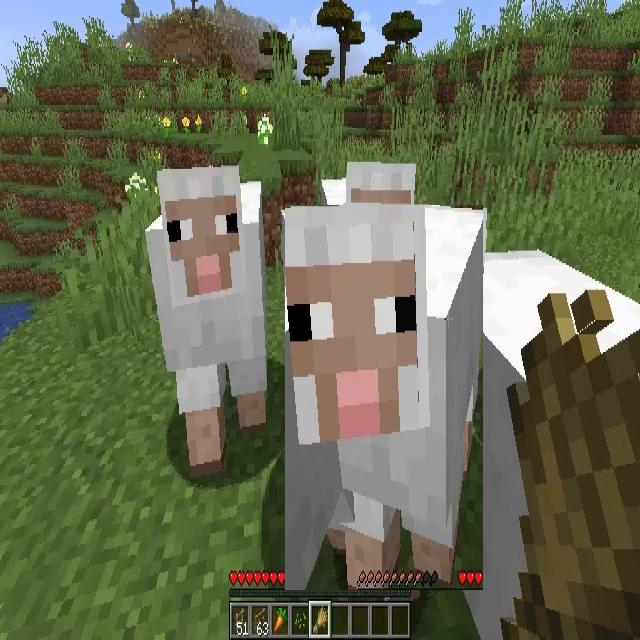flower: (257, 116, 273, 144), (182, 117, 191, 137), (195, 115, 202, 134), (241, 87, 247, 102), (162, 117, 170, 128)
sheep: (285, 205, 483, 590), (147, 170, 266, 456)
